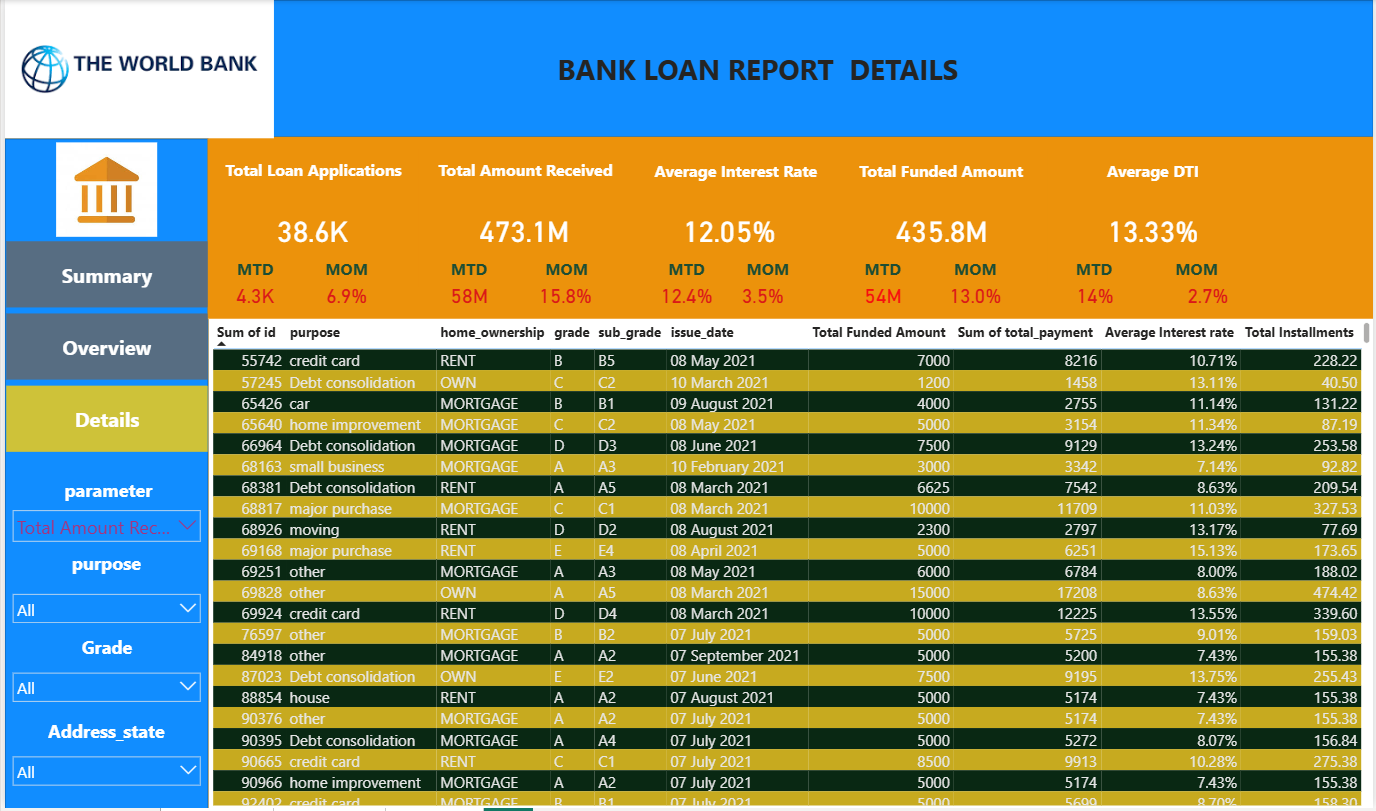

This screenshot's page, from the dashboard's own definition file:
{"tool":"powerbi","page":{"name":"Details","canvas":[1820,1075],"ordinal":2},"visuals":[{"type":"shape","box":[0,0,1819.3,181.9],"z":0},{"type":"image","box":[0,0,357.2,184],"z":1000},{"type":"shape","box":[0,183.7,270.2,891.6],"z":2000},{"type":"image","box":[63.3,184.7,144.3,135.5],"z":3000},{"type":"textbox","box":[702.5,61.2,596.2,61.2],"z":4000},{"type":"card","fields":{"Values":["financial_loan_full.Total Loan applications"]},"box":[269.7,184,280.4,240],"z":5000},{"type":"textbox","box":[271.5,205.4,278.6,48.2],"z":6000},{"type":"card","fields":{"Values":["financial_loan_full.Total Funded Amount"]},"box":[1105.7,184,280.4,240],"z":7000},{"type":"card","fields":{"Values":["financial_loan_full.Average Interest rate"]},"box":[823.4,184,280.4,240],"z":8000},{"type":"card","fields":{"Values":["financial_loan_full.Total Amount Received"]},"box":[550.2,184,280.4,240],"z":9000},{"type":"textbox","box":[1103.9,207.2,282.2,48.2],"z":10000},{"type":"textbox","box":[550.2,205.4,284,50],"z":11000},{"type":"textbox","box":[835.9,207.2,271.5,48.2],"z":12000},{"type":"slicer","fields":{"Values":["financial_loan_full.purpose"]},"box":[0,778.8,269.7,60.7],"z":13000},{"type":"textbox","box":[0,728.8,269.7,50],"z":14000},{"type":"slicer","fields":{"Values":["financial_loan_full.grade"]},"box":[0,884.2,269.7,66.1],"z":15000},{"type":"slicer","fields":{"Values":["financial_loan_full.address_state"]},"box":[0,996.1,270.2,79.3],"z":16000},{"type":"textbox","box":[1.8,839.5,267.9,44.7],"z":17000},{"type":"textbox","box":[0,950.3,269.7,46.4],"z":18000},{"type":"pageNavigator","box":[1.8,320.6,268.4,281],"z":19000},{"type":"card","fields":{"Values":["financial_loan_full.Average dti"]},"box":[1386.1,184,280.4,240],"z":20000},{"type":"textbox","box":[1386.1,207.2,280.4,50],"z":21000},{"type":"card","fields":{"Values":["financial_loan_full.MTD Loan Applications"]},"box":[289.4,362.6,87.5,60.7],"z":22000},{"type":"textbox","box":[289.4,337.6,87.5,39.3],"z":23000},{"type":"card","fields":{"Values":["financial_loan_full.MoM Loan Applications"]},"box":[410.8,362.6,87.5,60.7],"z":24000},{"type":"textbox","box":[862.7,337.6,87.5,39.3],"z":25000},{"type":"textbox","box":[573.4,337.6,87.5,39.3],"z":26000},{"type":"textbox","box":[1123.5,337.6,87.5,39.3],"z":27000},{"type":"textbox","box":[1404,337.6,87.5,39.3],"z":28000},{"type":"textbox","box":[410.8,337.6,87.5,39.3],"z":29000},{"type":"textbox","box":[703.8,337.6,87.5,39.3],"z":30000},{"type":"textbox","box":[1246.8,337.6,87.5,39.3],"z":31000},{"type":"textbox","box":[969.9,337.6,87.5,39.3],"z":32000},{"type":"textbox","box":[1541.5,337.6,87.5,39.3],"z":33000},{"type":"card","fields":{"Values":["financial_loan_full.MoM DTI"]},"box":[1555.8,362.6,87.5,60.7],"z":34000},{"type":"card","fields":{"Values":["financial_loan_full.MoM Funded Amount"]},"box":[1246.8,362.6,87.5,60.7],"z":35000},{"type":"card","fields":{"Values":["financial_loan_full.MoM Average int rate"]},"box":[964.5,362.6,87.5,60.7],"z":36000},{"type":"card","fields":{"Values":["financial_loan_full.MoM Received Amount"]},"box":[702,362.6,87.5,60.7],"z":37000},{"type":"card","fields":{"Values":["financial_loan_full.MTD Funded Amount"]},"box":[1123.5,362.6,87.5,60.7],"z":38000},{"type":"card","fields":{"Values":["financial_loan_full.MTD Average rate"]},"box":[862.7,362.6,87.5,60.7],"z":39000},{"type":"card","fields":{"Values":["financial_loan_full.MTD Received Amount"]},"box":[573.4,362.6,87.5,60.7],"z":40000},{"type":"card","fields":{"Values":["financial_loan_full.MTD Average Dti"]},"box":[1411.1,362.6,76.8,60.7],"z":41000},{"type":"tableEx","fields":{"Values":["Sum(financial_loan_full.id)","financial_loan_full.purpose","financial_loan_full.home_ownership","financial_loan_full.grade","financial_loan_full.sub_grade","financial_loan_full.issue_date","financial_loan_full.Total Funded Amount","Sum(financial_loan_full.total_payment)","financial_loan_full.Average Interest rate","Sum(financial_loan_full.installment)"]},"box":[270.2,423.3,1549.1,652.1],"z":42000},{"type":"slicer","fields":{"Values":["Parameter.Parameter"]},"box":[0,668.3,270.2,61.2],"z":43000},{"type":"textbox","box":[3.6,630.4,268.4,50.4],"z":44000}]}

Visuals, with their boxes in screenshot pixels (x1, y1, x2, y2), scaled from the page's 1820x1075 canvas onto the 1376x811 screenshot:
shape: 0/0/1375/137
image: 0/0/270/139
shape: 0/139/204/810
image: 48/139/157/242
textbox: 531/46/982/92
card - financial_loan_full.Total Loan applications: 204/139/416/320
textbox: 205/155/416/191
card - financial_loan_full.Total Funded Amount: 836/139/1048/320
card - financial_loan_full.Average Interest rate: 623/139/835/320
card - financial_loan_full.Total Amount Received: 416/139/628/320
textbox: 835/156/1048/193
textbox: 416/155/631/193
textbox: 632/156/837/193
slicer - financial_loan_full.purpose: 0/588/204/633
textbox: 0/550/204/588
slicer - financial_loan_full.grade: 0/667/204/717
slicer - financial_loan_full.address_state: 0/751/204/810
textbox: 1/633/204/667
textbox: 0/717/204/752
pageNavigator: 1/242/204/454
card - financial_loan_full.Average dti: 1048/139/1260/320
textbox: 1048/156/1260/194
card - financial_loan_full.MTD Loan Applications: 219/274/285/319
textbox: 219/255/285/284
card - financial_loan_full.MoM Loan Applications: 311/274/377/319
textbox: 652/255/718/284
textbox: 434/255/500/284
textbox: 849/255/916/284
textbox: 1061/255/1128/284
textbox: 311/255/377/284
textbox: 532/255/598/284
textbox: 943/255/1009/284
textbox: 733/255/799/284
textbox: 1165/255/1232/284
card - financial_loan_full.MoM DTI: 1176/274/1242/319
card - financial_loan_full.MoM Funded Amount: 943/274/1009/319
card - financial_loan_full.MoM Average int rate: 729/274/795/319
card - financial_loan_full.MoM Received Amount: 531/274/597/319
card - financial_loan_full.MTD Funded Amount: 849/274/916/319
card - financial_loan_full.MTD Average rate: 652/274/718/319
card - financial_loan_full.MTD Received Amount: 434/274/500/319
card - financial_loan_full.MTD Average Dti: 1067/274/1125/319
tableEx - Sum(financial_loan_full.id) x financial_loan_full.purpose: 204/319/1375/810
slicer - Parameter.Parameter: 0/504/204/550
textbox: 3/476/206/514
